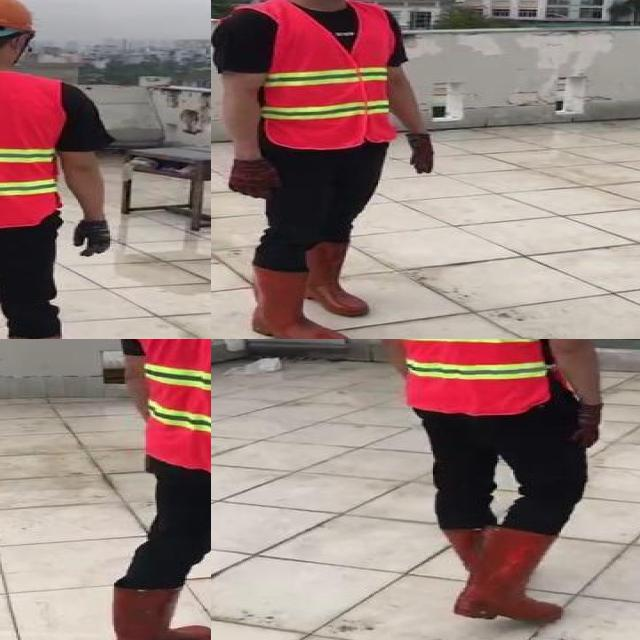boots: (449, 527, 563, 629), (248, 268, 349, 339), (105, 582, 211, 640), (305, 242, 371, 316)
hand_glove: (225, 160, 286, 199), (73, 217, 114, 257), (570, 402, 602, 452), (405, 134, 440, 176)
head_helmet: (0, 0, 42, 31)
person: (211, 0, 440, 339), (359, 339, 613, 633), (0, 0, 137, 339), (100, 339, 211, 640)
vest: (258, 0, 399, 148), (379, 339, 561, 416), (131, 339, 211, 473), (0, 66, 63, 228)
